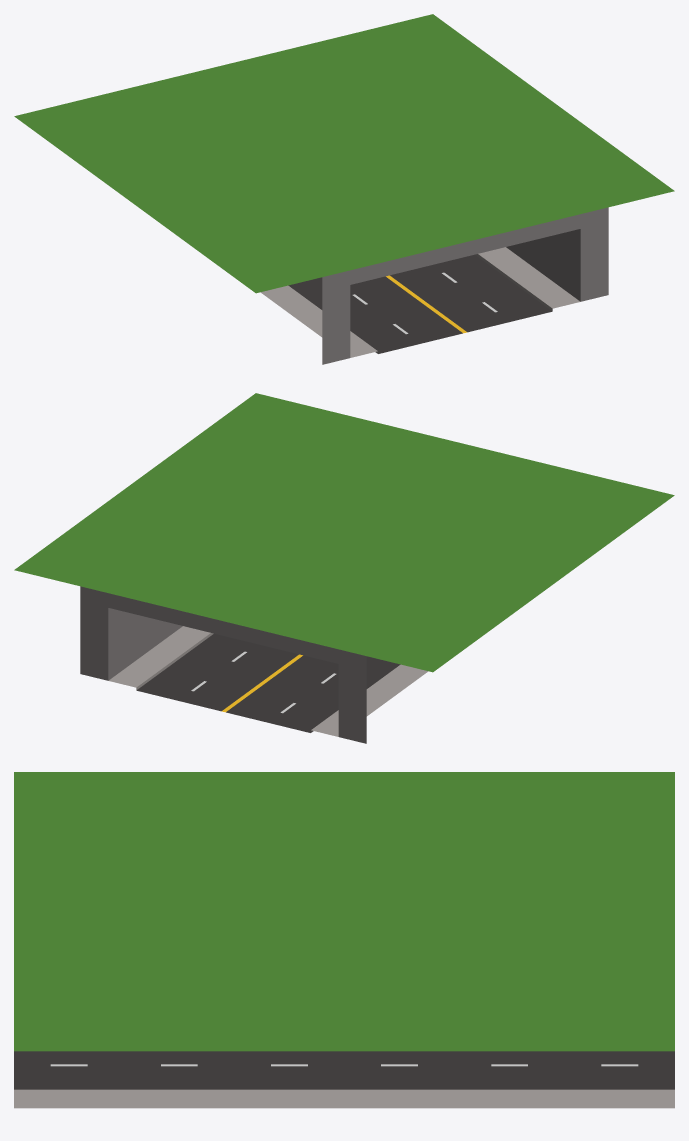
The model's file is tiles-nb-tile-mainroad-tunnel-nb.glb.
3 views of the same model, one above another, from view 1: azimuth 30°, elevation 25°; view 2: azimuth 150°, elevation 25°; view 3: azimuth 270°, elevation 25° (orthographic). The views are drawn at different scales.
Visible parts, largest first — view 1: tile-mainroad-tunnel-nb; view 2: tile-mainroad-tunnel-nb; view 3: tile-mainroad-tunnel-nb.
Part boxes in pixels (bbox=[...]): tile-mainroad-tunnel-nb: bbox=[14, 14, 674, 364]; tile-mainroad-tunnel-nb: bbox=[14, 393, 674, 743]; tile-mainroad-tunnel-nb: bbox=[14, 772, 674, 1108].
Bounding box in the file's own units: 30 × 6.2 × 30.
